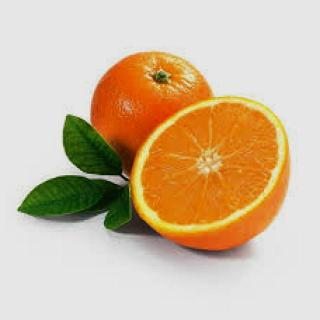orange: (119, 95, 289, 273), (74, 56, 217, 174)
